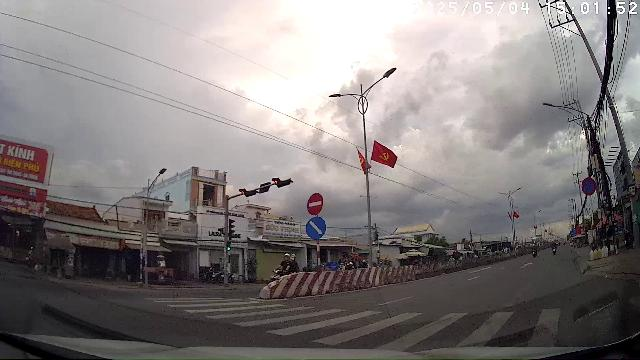102-cam-di-nguoc-chieu: (306, 192, 324, 215)
130-cam-dung-va-do-xe: (582, 177, 596, 196)
302a-huong-phai-di-vong-chuong-ngai-vat-1: (306, 216, 327, 240)
